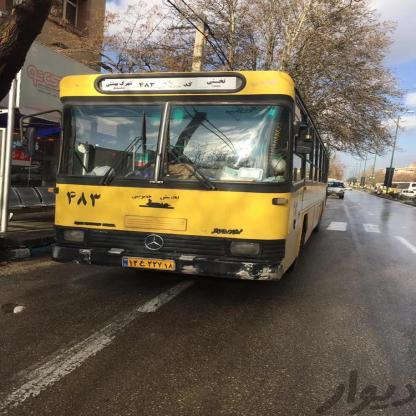Bus: (47, 69, 332, 295)
Car: (326, 171, 351, 205)
